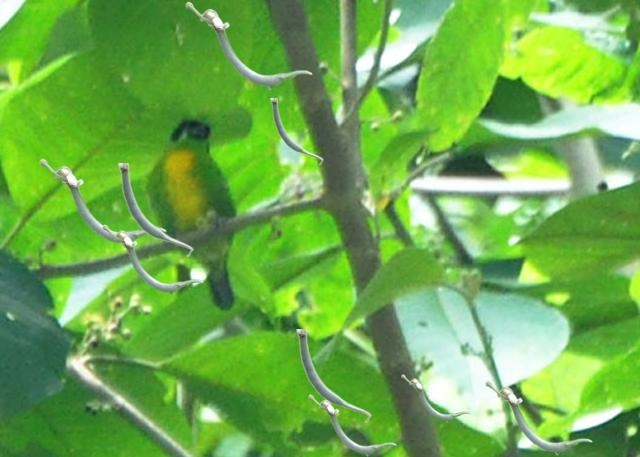french_bean: (39, 158, 165, 246), (185, 1, 311, 89), (485, 380, 591, 454), (102, 224, 202, 294), (296, 329, 370, 422), (118, 163, 192, 256), (308, 394, 395, 455), (270, 98, 322, 164), (401, 374, 469, 421)
